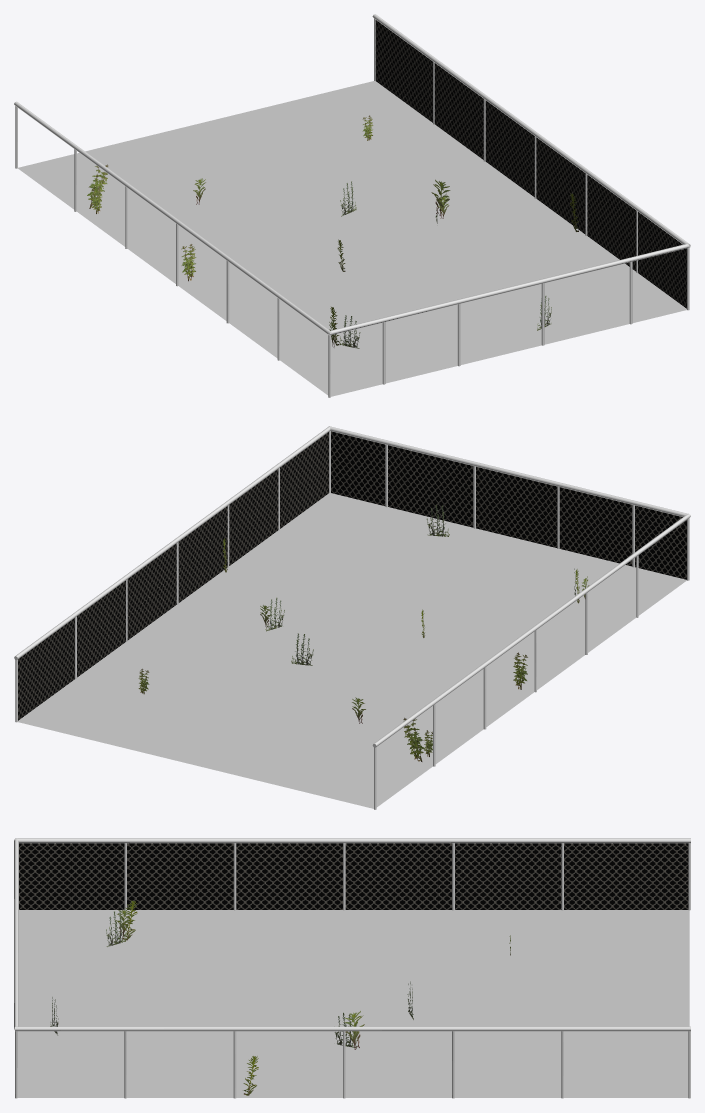
Rendered from trip_lot.FBX.
3 renders of one model, top to bottom at view 1: azimuth 30°, elevation 25°; view 2: azimuth 150°, elevation 25°; view 3: azimuth 270°, elevation 25°, orthographic. The views are drawn at different scales.
Visible parts, largest first — view 1: pavement, chainlink, chainlink_pole; view 2: pavement, chainlink, chainlink_pole; view 3: pavement, chainlink, chainlink_pole.
Boxes of the visible parts, x1,y1,x2,y2 form: pavement: (18, 81, 686, 396); chainlink: (375, 20, 686, 308); chainlink_pole: (14, 14, 690, 397); pavement: (18, 493, 686, 808); chainlink: (18, 431, 686, 720); chainlink_pole: (14, 426, 690, 809); pavement: (17, 910, 689, 1097); chainlink: (19, 843, 688, 909); chainlink_pole: (14, 838, 690, 1098).
Bounding box in the file's own units: 747 × 138 × 1124.
